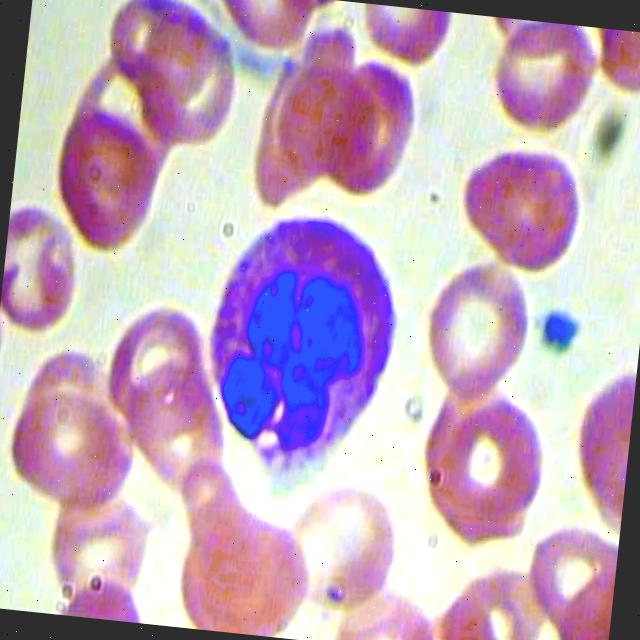Platelets: (528, 290, 594, 360)
RBC: (267, 462, 408, 626), (421, 381, 562, 545), (0, 369, 145, 516), (44, 105, 171, 267), (416, 250, 544, 405), (458, 137, 584, 282), (476, 16, 602, 138), (0, 204, 84, 333)
WBC: (186, 201, 418, 504)
